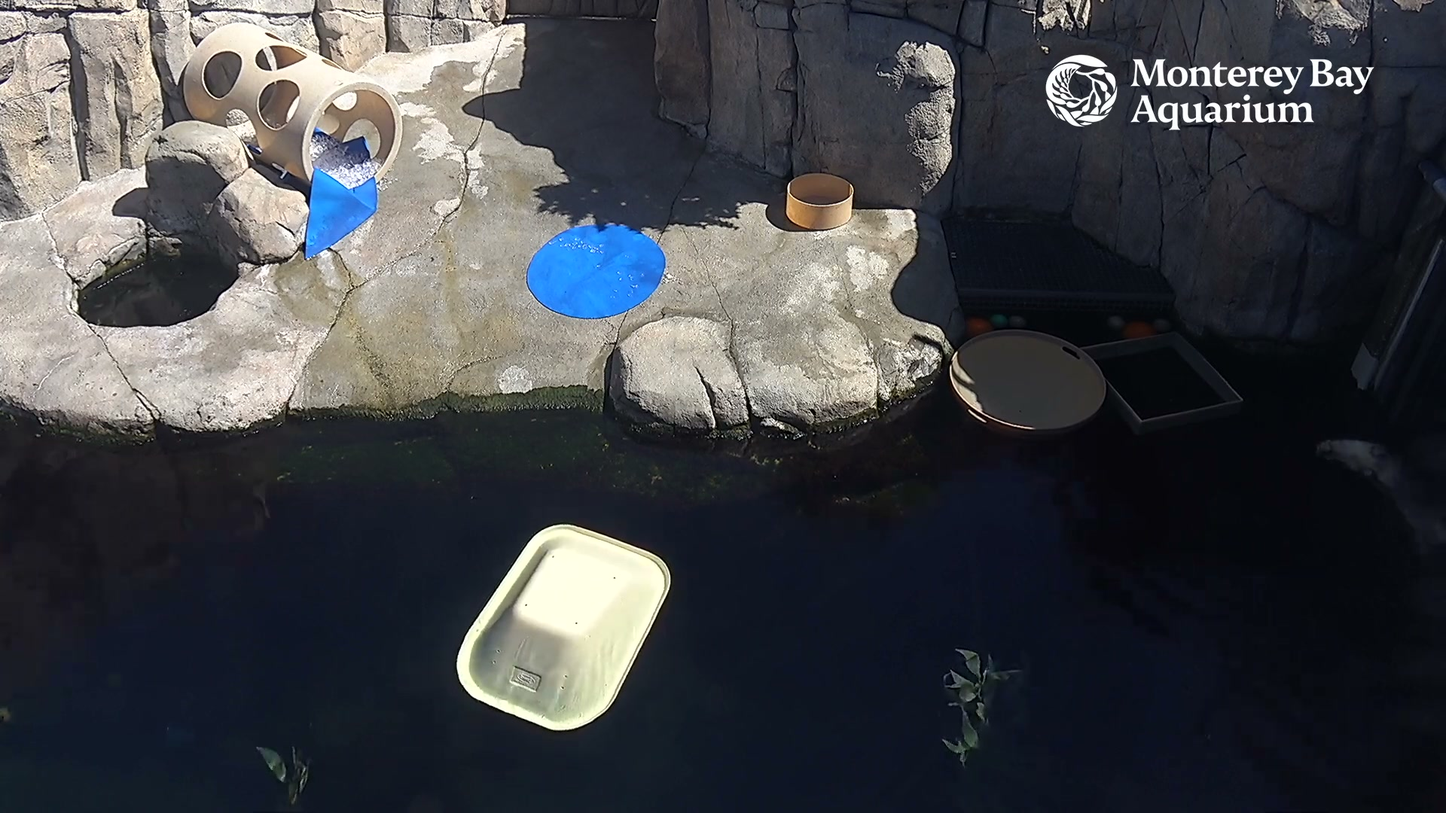Southern Sea Otter: (1324, 431, 1446, 552)
